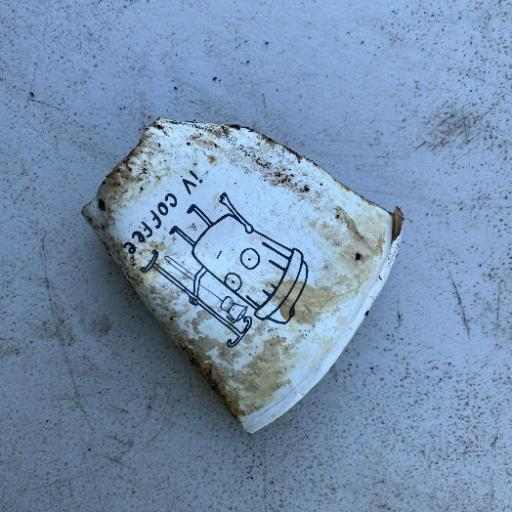Cardboard: (79, 115, 405, 435)
